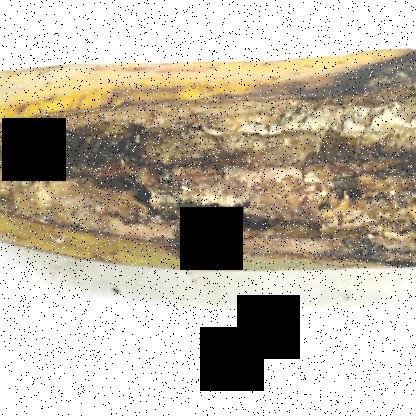rotten: (0, 36, 415, 282)
